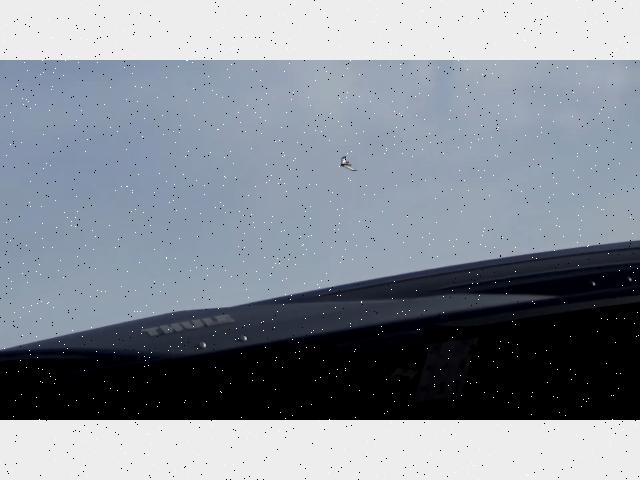Anti-Drone: (340, 157, 356, 172)
